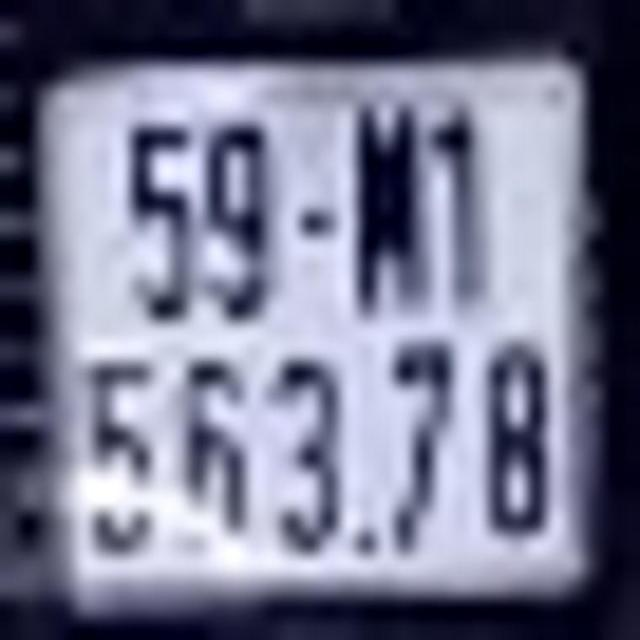1: (429, 113, 478, 313)
3: (272, 354, 343, 559)
5: (88, 358, 156, 554), (128, 124, 192, 320)
6: (180, 357, 248, 562)
7: (389, 346, 456, 552)
8: (485, 340, 551, 543)
9: (206, 124, 268, 319)
M: (354, 107, 426, 316)
